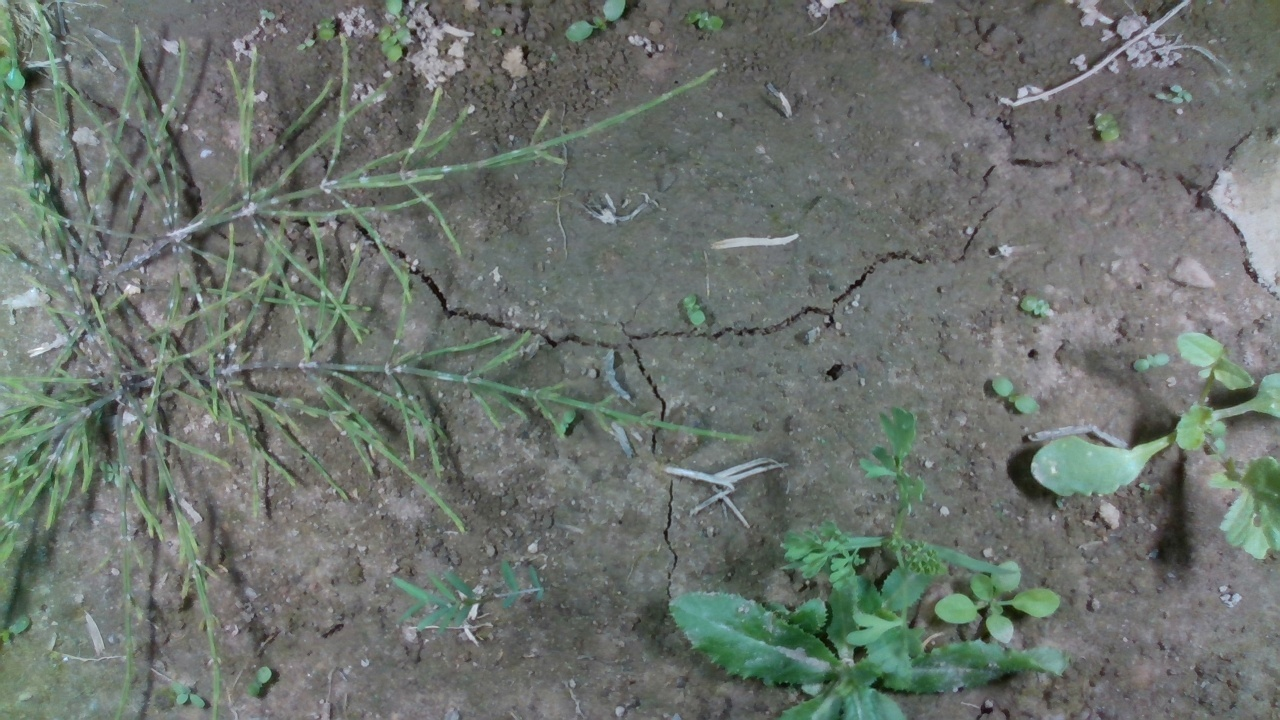weed: (990, 369, 1036, 424), (678, 288, 710, 330), (1020, 290, 1049, 321), (1135, 346, 1160, 379), (1167, 81, 1195, 110)
